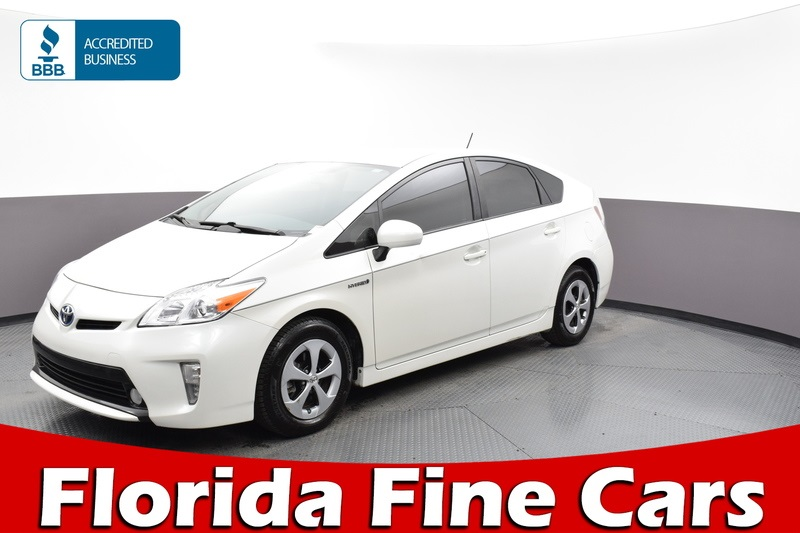Toyota Prius: (23, 141, 618, 441)
